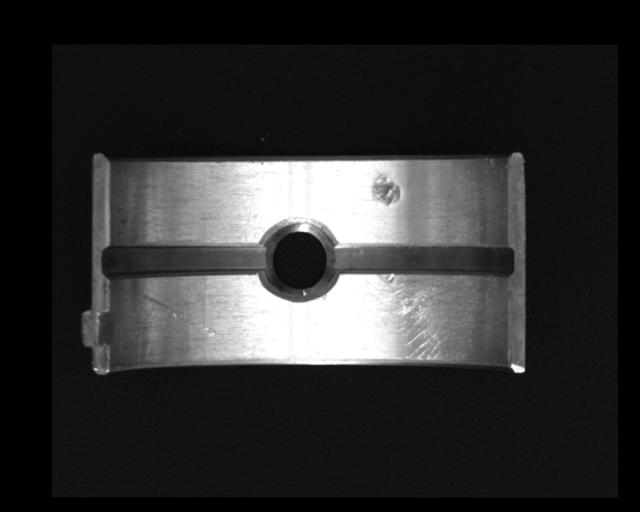bruise: (372, 171, 401, 208)
gap: (327, 242, 513, 279), (102, 243, 267, 278)
hole: (260, 218, 335, 299)
nick: (135, 289, 215, 339)
scratch: (332, 274, 502, 364)
